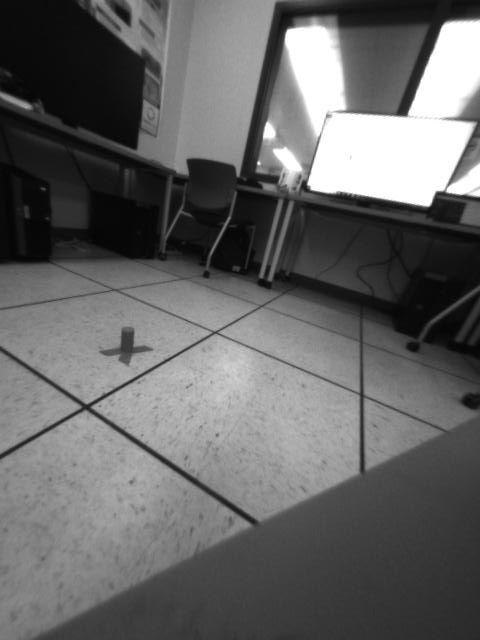X: (100, 326, 153, 367)
